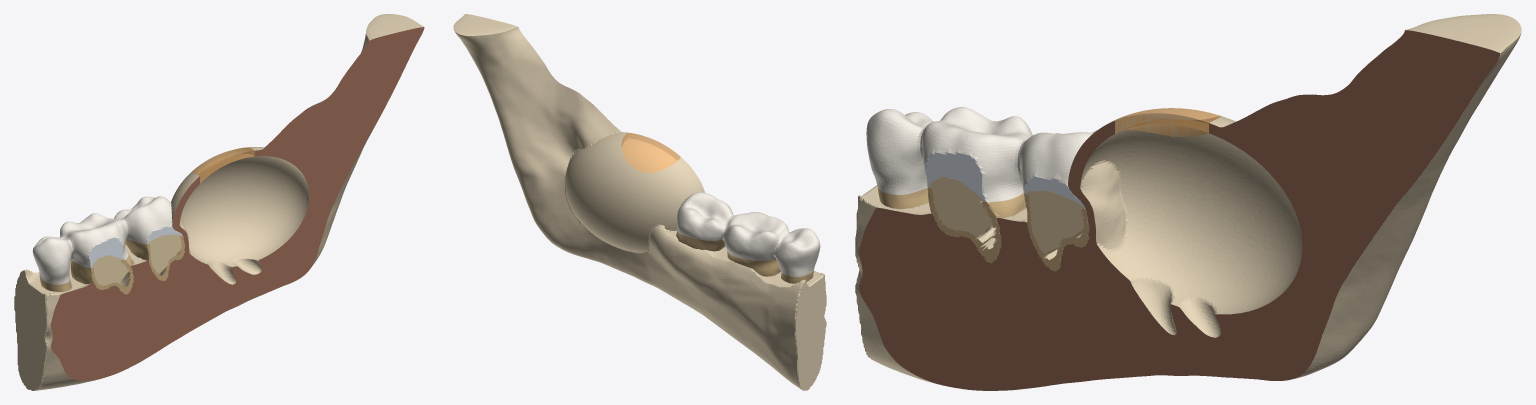
File: enucleation-after.glb
The picture shows the model from 3 angles, left to right: view 1: azimuth 30°, elevation 25°; view 2: azimuth 150°, elevation 25°; view 3: azimuth 330°, elevation 25°; orthographic projection. The views are drawn at different scales.
Visible parts, largest first — view 1: bone cut, bone, teeth, teeth cut 4, teeth roots, teeth cut 2, removed bone, teeth cut 3; view 2: bone, teeth, removed bone, teeth roots; view 3: bone cut, bone, teeth, teeth cut 4, teeth cut 2, removed bone, teeth cut 3, teeth roots.
Boxes of the visible parts, x1=… form: bone cut: x1=50, y1=27, x2=424, y2=380; bone: x1=14, y1=14, x2=423, y2=390; teeth: x1=32, y1=196, x2=172, y2=284; teeth cut 4: x1=91, y1=234, x2=182, y2=285; teeth roots: x1=40, y1=239, x2=183, y2=291; teeth cut 2: x1=89, y1=226, x2=182, y2=267; removed bone: x1=192, y1=147, x2=254, y2=183; teeth cut 3: x1=90, y1=236, x2=184, y2=294; bone: x1=453, y1=14, x2=826, y2=390; teeth: x1=677, y1=192, x2=820, y2=276; removed bone: x1=621, y1=132, x2=680, y2=172; teeth roots: x1=676, y1=231, x2=813, y2=283; bone cut: x1=859, y1=30, x2=1500, y2=390; bone: x1=855, y1=14, x2=1521, y2=384; teeth: x1=866, y1=107, x2=1096, y2=202; teeth cut 4: x1=928, y1=177, x2=1085, y2=254; teeth cut 2: x1=925, y1=152, x2=1084, y2=208; removed bone: x1=1115, y1=108, x2=1221, y2=136; teeth cut 3: x1=927, y1=188, x2=1089, y2=271; teeth roots: x1=877, y1=188, x2=1085, y2=271.
Bounding box in the file's own units: 81.87 × 59.05 × 12.39.
